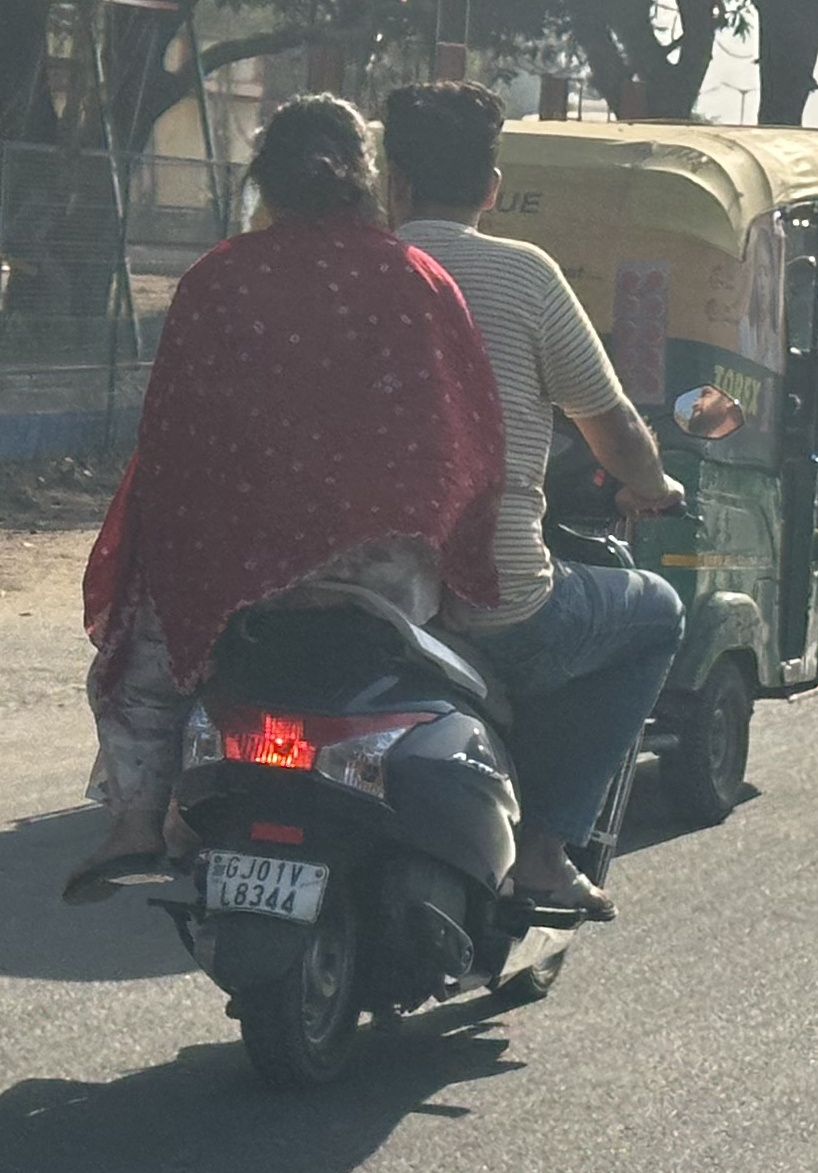BikeWithRider: (44, 43, 713, 1109)
NoHelmet: (212, 81, 405, 249), (375, 74, 525, 239)
